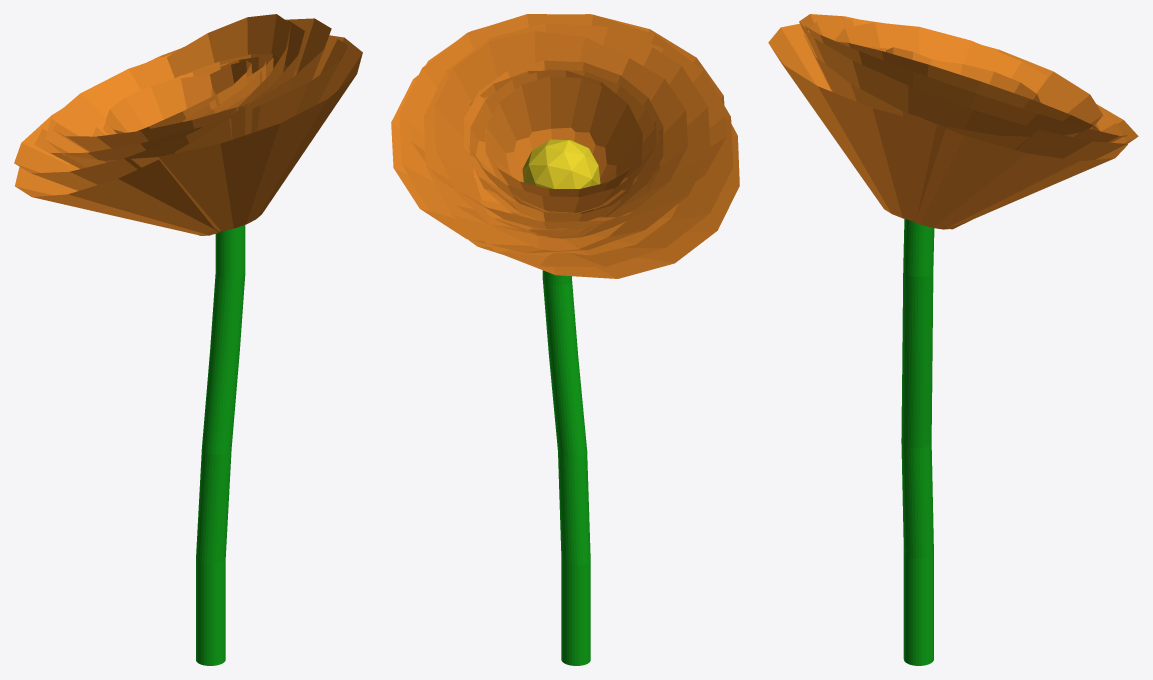
Rendered from fleur_plaine.fbx.
3 views of the same model, side by side, from view 1: azimuth 30°, elevation 25°; view 2: azimuth 150°, elevation 25°; view 3: azimuth 270°, elevation 25° (orthographic). The views are drawn at different scales.
Visible parts, largest first — view 1: Cylinder; view 2: Cylinder; view 3: Cylinder.
Boxes of the visible parts, bbox=[...] form: Cylinder: bbox=[14, 14, 362, 665]; Cylinder: bbox=[391, 14, 739, 665]; Cylinder: bbox=[768, 14, 1138, 665].
Bounding box in the file's own units: 111 × 213 × 112.
